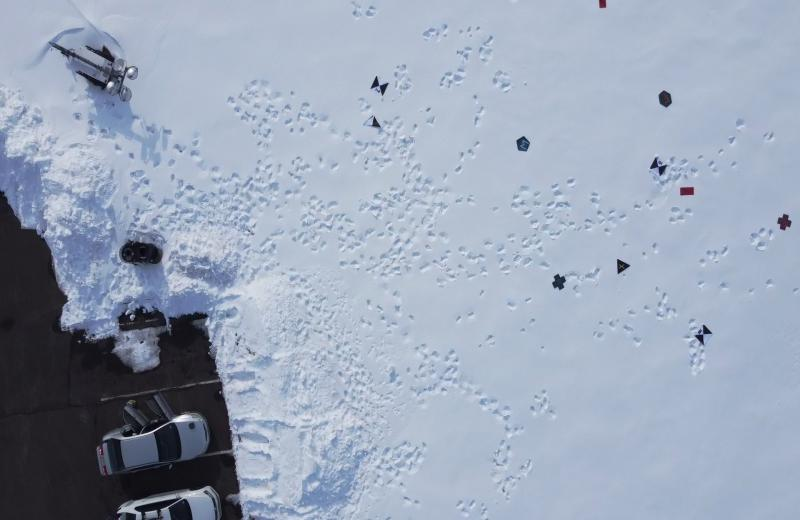Cross: (776, 214, 792, 232), (550, 273, 566, 291)
Hexagon: (657, 91, 673, 110)
Pentagon: (515, 135, 532, 156)
Rectangle: (678, 185, 695, 198), (598, 0, 607, 9)
Triangle: (614, 257, 630, 277)
